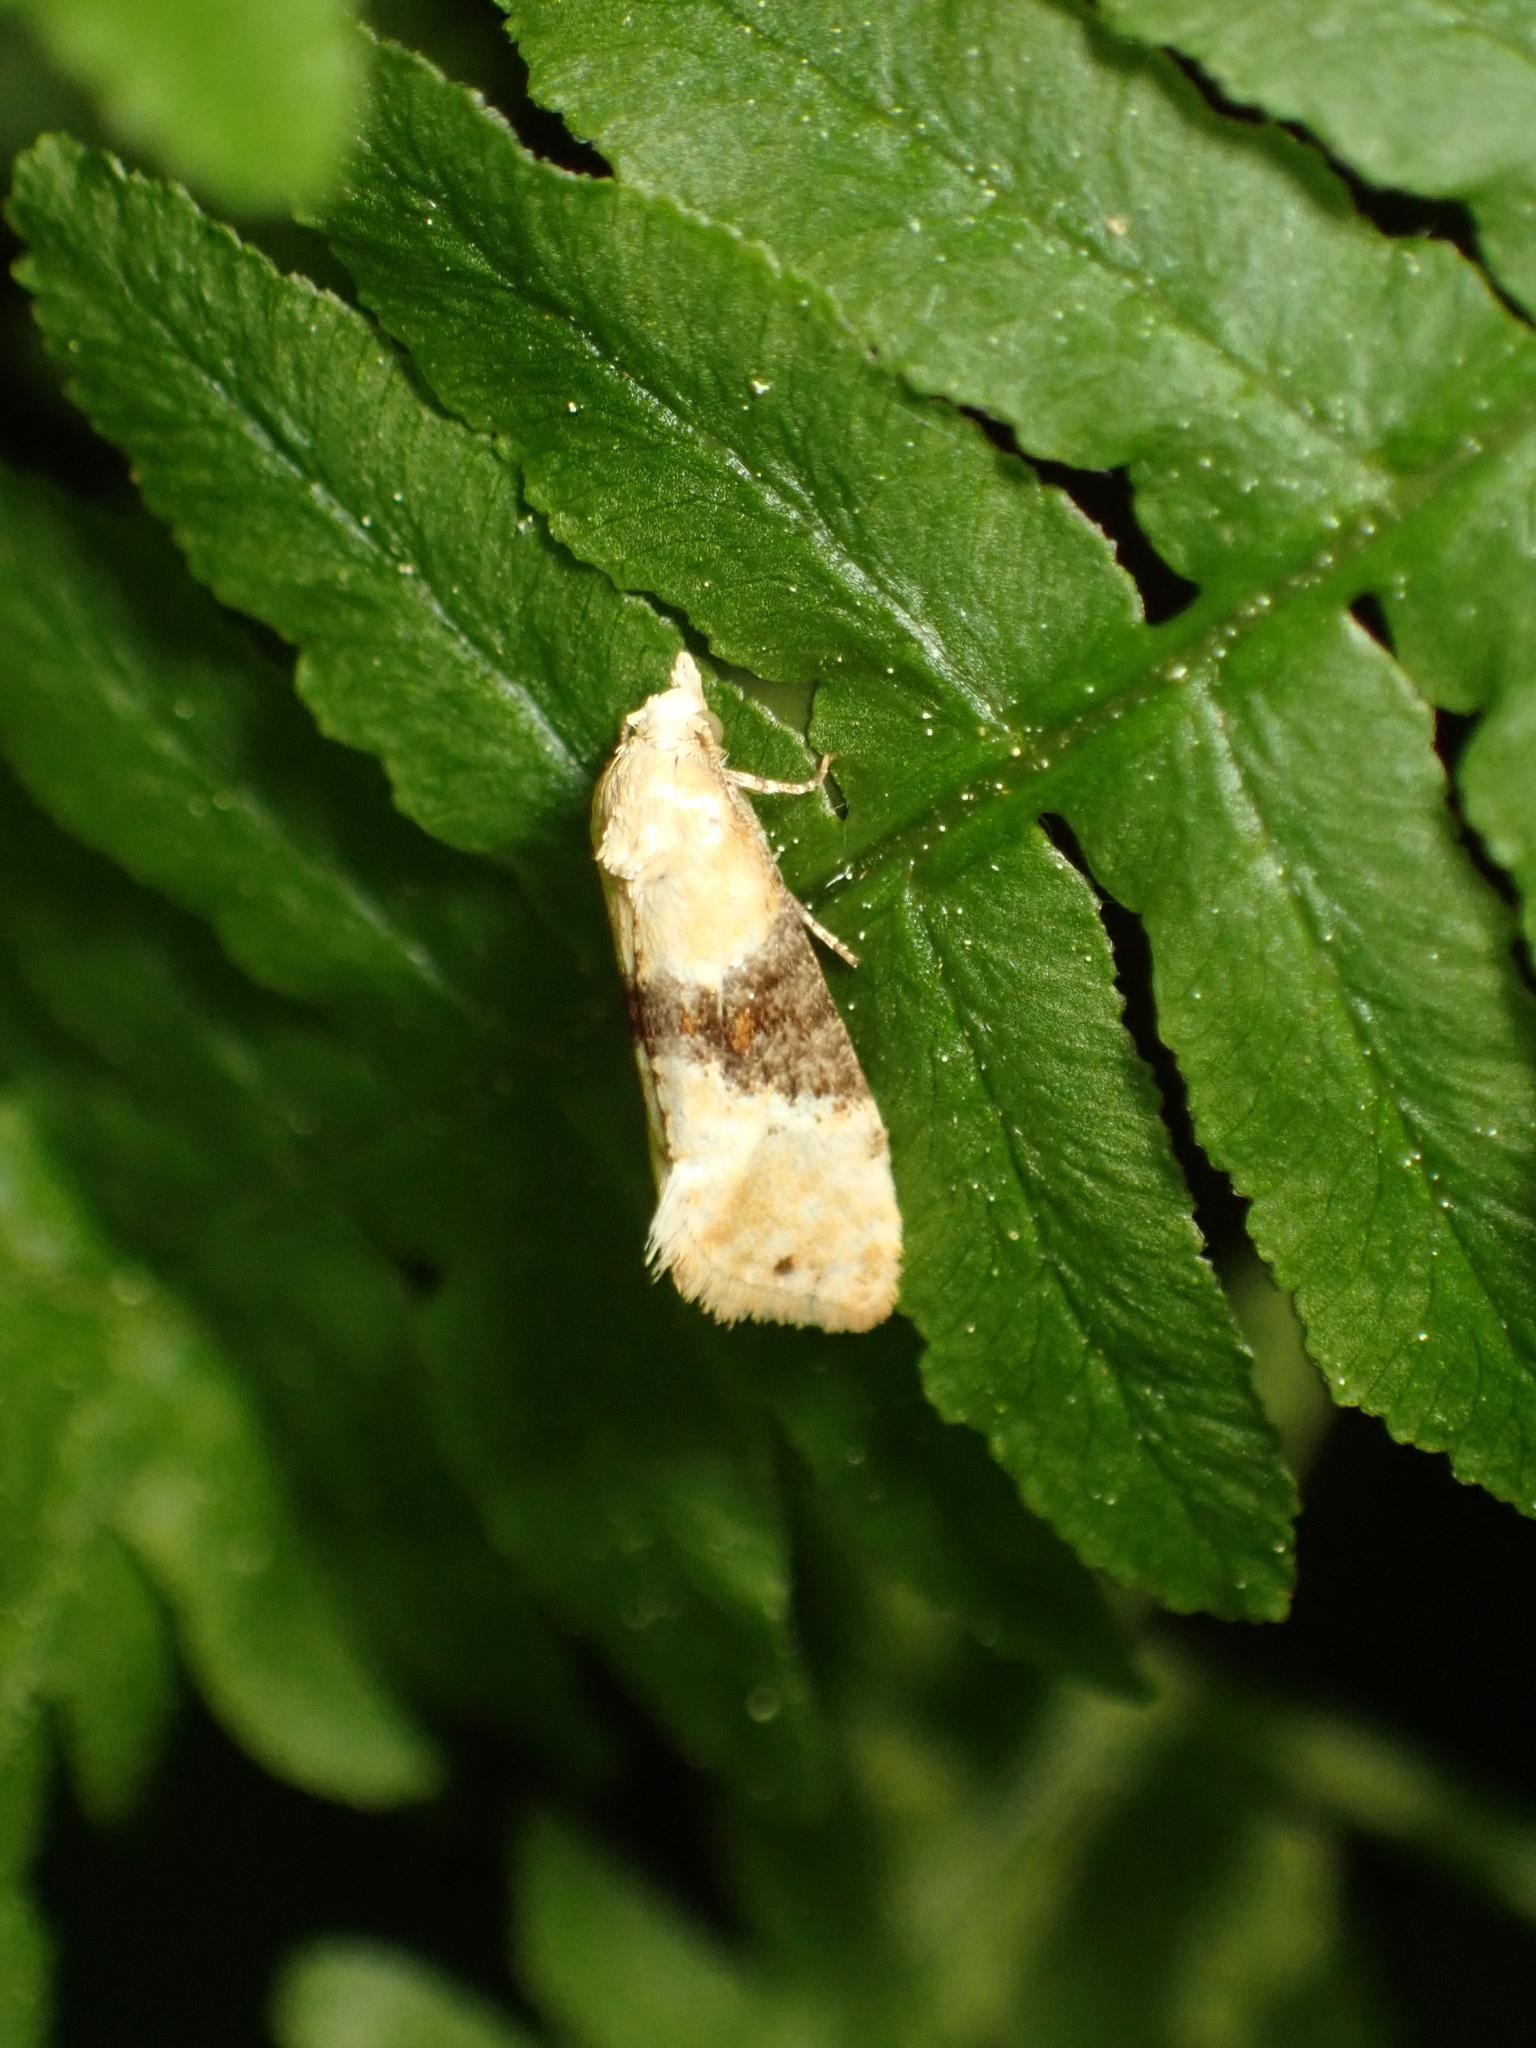Eupoecilia Ambiguella: (582, 647, 910, 1338)
